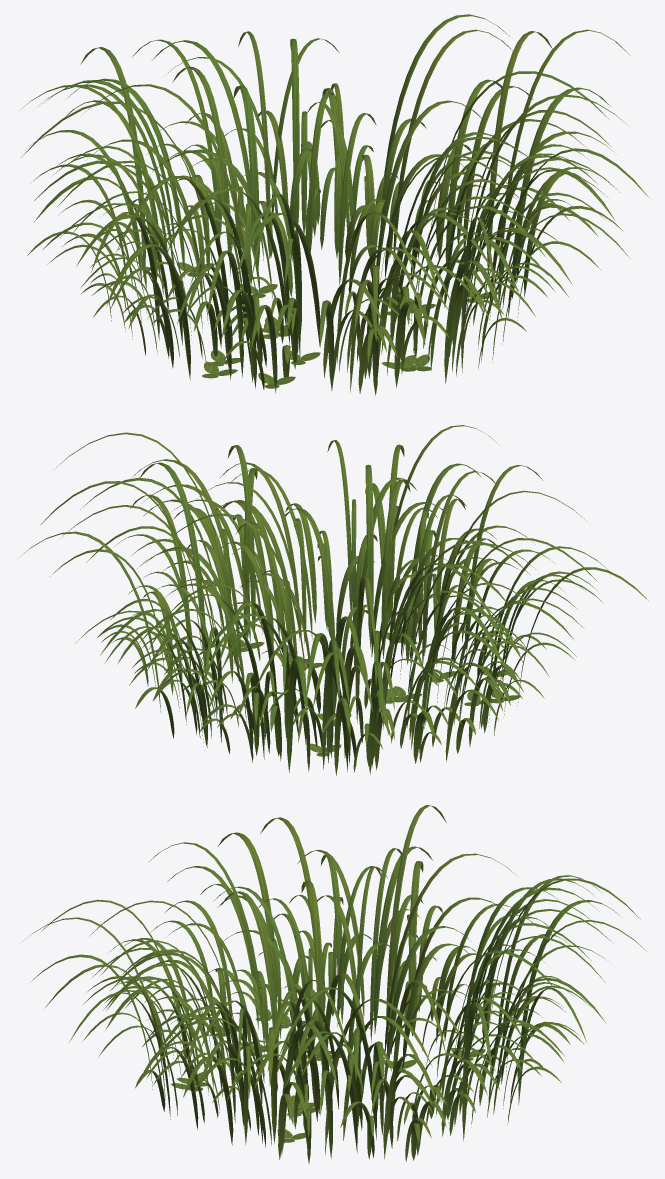
The model's file is n-meadow.glb.
The picture shows the model from 3 angles, top to bottom: view 1: azimuth 30°, elevation 25°; view 2: azimuth 150°, elevation 25°; view 3: azimuth 270°, elevation 25°; orthographic projection. The views are drawn at different scales.
Parts seen in each view (by area): view 1: Foliage; view 2: Foliage; view 3: Foliage.
Part boxes in pixels (x1=…): Foliage: x1=21, y1=14, x2=648, y2=395; Foliage: x1=18, y1=425, x2=648, y2=775; Foliage: x1=25, y1=805, x2=650, y2=1163.
Bounding box in the file's own units: 1.96 × 0.72 × 2.
1 material, 1 textured.
